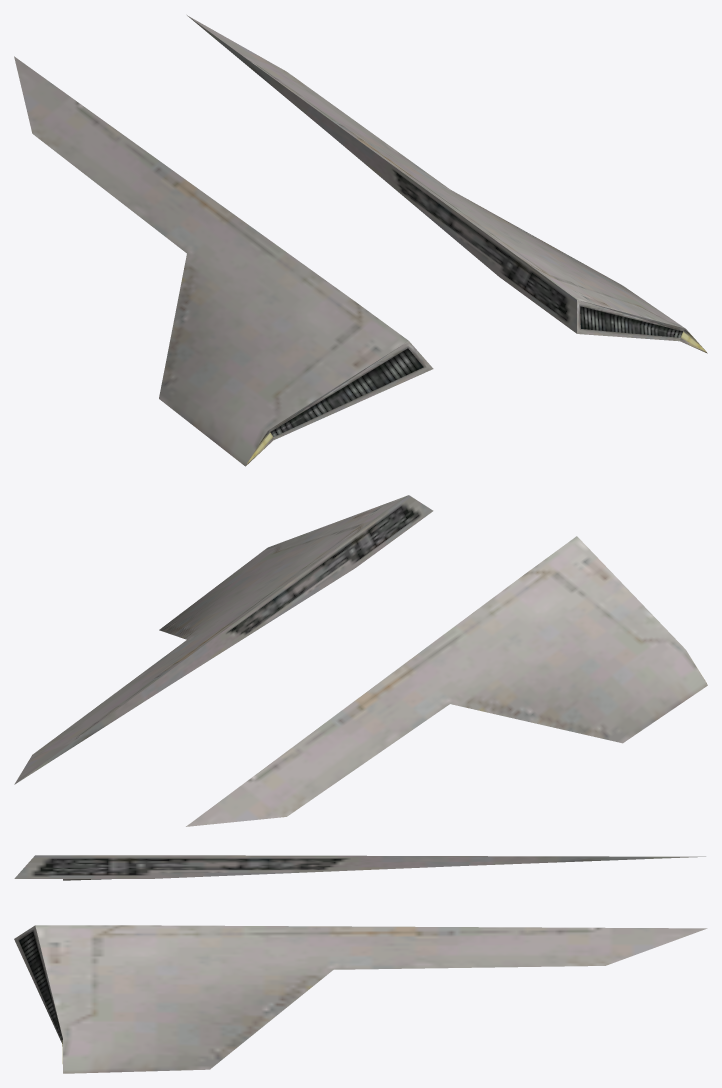
Rendered from hutt_fighter_medium_struct_s01_l2.fbx.
3 renders of one model, top to bottom at view 1: azimuth 30°, elevation 25°; view 2: azimuth 150°, elevation 25°; view 3: azimuth 270°, elevation 25°, orthographic. The views are drawn at different scales.
Visible parts, largest first — view 1: mesh_node; view 2: mesh_node; view 3: mesh_node.
Boxes of the visible parts, x1=… form: mesh_node: x1=14, y1=15, x2=707, y2=466; mesh_node: x1=14, y1=495, x2=707, y2=826; mesh_node: x1=14, y1=855, x2=707, y2=1073.
Bounding box in the file's own units: 13.72 × 2.87 × 20.77.
